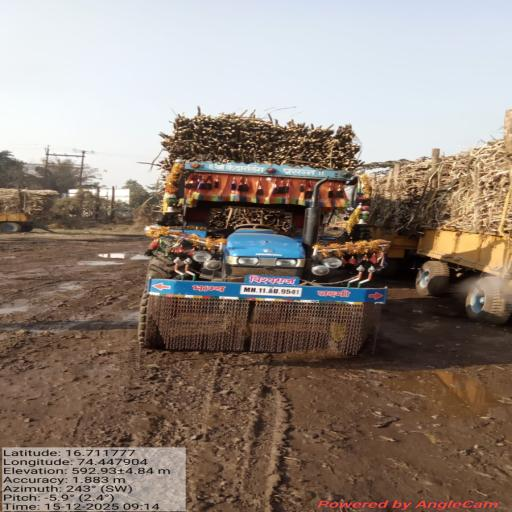number_plate: (237, 281, 321, 307)
